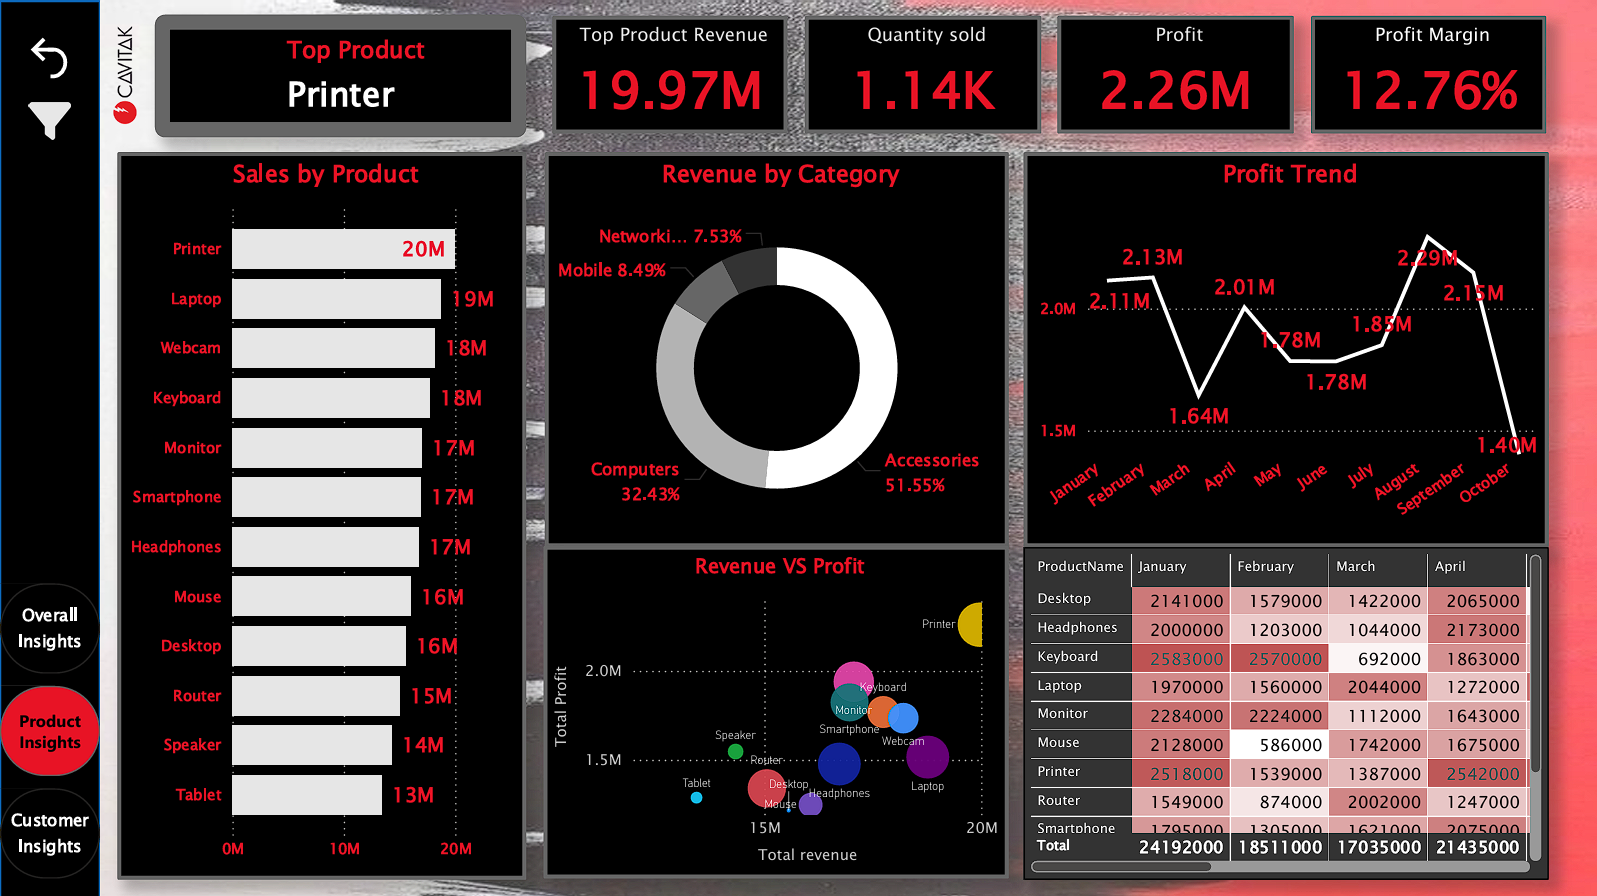

This screenshot's page, from the dashboard's own definition file:
{"tool":"powerbi","page":{"name":"Product Insights","canvas":[1280,720],"ordinal":1},"visuals":[{"type":"shape","box":[0,0,80,720],"z":1000},{"type":"pageNavigator","box":[0,466.2,80,237.5],"z":2000},{"type":"clusteredBarChart","title":"Sales by Product","fields":{"Category":["Products.ProductName"],"Y":["Measure table.Total revenue"]},"box":[94.3,121.4,327.1,581.4],"z":3000},{"type":"donutChart","title":"Revenue by Category","fields":{"Category":["Products.Category"],"Y":["Measure table.Total revenue"]},"box":[435.7,121.4,371.4,315.7],"z":4000},{"type":"card","title":"Top Product","fields":{"Values":["Measure table.Selected Product"]},"box":[124.3,11.4,297.1,97.1],"z":5000},{"type":"card","title":"Top Product Revenue","fields":{"Values":["Measure table.Total revenue (product)"]},"box":[441.7,12.1,188.7,94.3],"z":6000},{"type":"card","title":"Quantity sold","fields":{"Values":["Measure table.Total Quantity sold (product insight)"]},"box":[644,12.1,188.7,94.3],"z":7000},{"type":"card","title":"Profit","fields":{"Values":["Measure table.Total Profit"]},"box":[846.3,12.1,188.7,94.3],"z":8000},{"type":"card","title":"Profit Margin","fields":{"Values":["Measure table.Profit margin (Product insight)"]},"box":[1048.7,12.1,188.7,94.3],"z":9000},{"type":"lineChart","title":"Profit Trend","fields":{"Category":["Calendar.Date.Variation.Date Hierarchy.Month"],"Y":["Measure table.Total Profit"]},"box":[818.6,121.4,420,315.7],"z":10000},{"type":"scatterChart","title":"Revenue VS Profit","fields":{"X":["Measure table.Total revenue"],"Y":["Measure table.Total Profit"],"Size":["Measure table.Total Quantity Sold"],"Series":["Products.ProductName"]},"box":[435.3,436.4,372,265.7],"z":11000},{"type":"pivotTable","fields":{"Rows":["Products.ProductName"],"Values":["Measure table.Total revenue"],"Columns":["Calendar.Date.Variation.Date Hierarchy.Month"]},"box":[818.6,437.1,420,265.7],"z":12000},{"type":"actionButton","box":[22.9,81.4,34.3,30],"z":13000},{"type":"actionButton","box":[18.1,23.6,45.3,43.5],"z":15000},{"type":"image","box":[80,12.9,40,92.9],"z":15001}]}

Visuals, with their boxes in screenshot pixels (x1, y1, x2, y2), scaled from the page's 1280x720 canvas onto the 1597x896 screenshot:
shape: box=[0, 0, 100, 895]
pageNavigator: box=[0, 580, 100, 876]
"Sales by Product" clusteredBarChart: box=[118, 151, 526, 875]
"Revenue by Category" donutChart: box=[544, 151, 1007, 544]
"Top Product" card: box=[155, 14, 526, 135]
"Top Product Revenue" card: box=[551, 15, 787, 132]
"Quantity sold" card: box=[803, 15, 1039, 132]
"Profit" card: box=[1056, 15, 1291, 132]
"Profit Margin" card: box=[1308, 15, 1544, 132]
"Profit Trend" lineChart: box=[1021, 151, 1545, 544]
"Revenue VS Profit" scatterChart: box=[543, 543, 1007, 874]
pivotTable - Products.ProductName x Measure table.Total revenue: box=[1021, 544, 1545, 875]
actionButton: box=[29, 101, 71, 139]
actionButton: box=[23, 29, 79, 84]
image: box=[100, 16, 150, 132]
